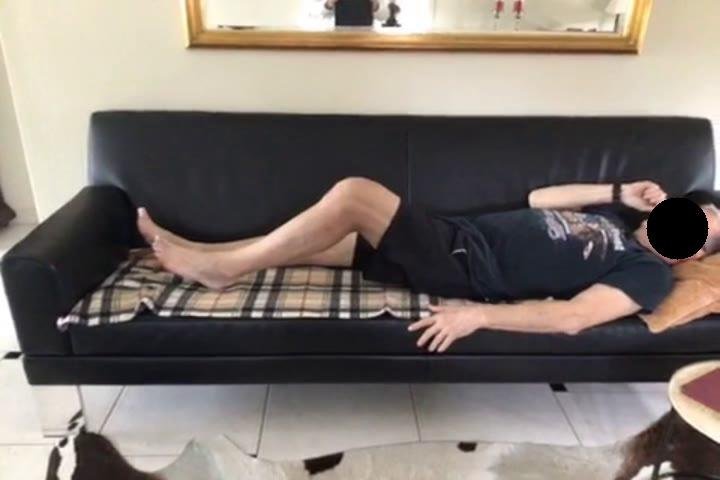lower_body: (134, 174, 486, 304)
